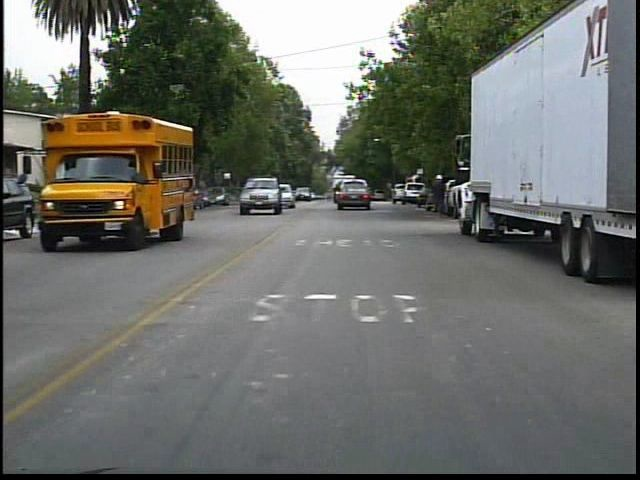person: (426, 171, 449, 219)
